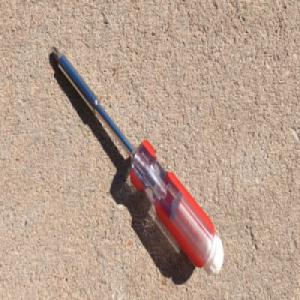Screwdriver: (49, 43, 224, 277)
